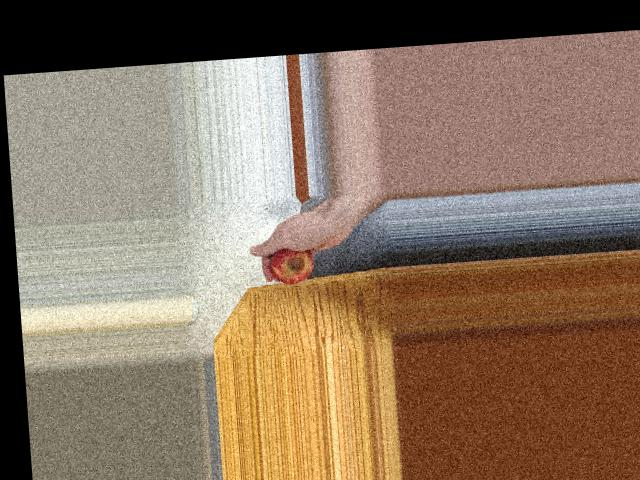apple: (265, 239, 325, 287)
